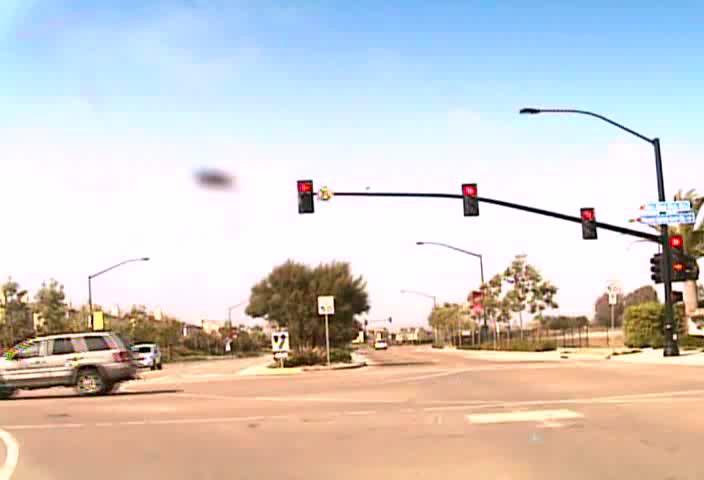speedLimitUrdbl: (317, 295, 334, 314)
